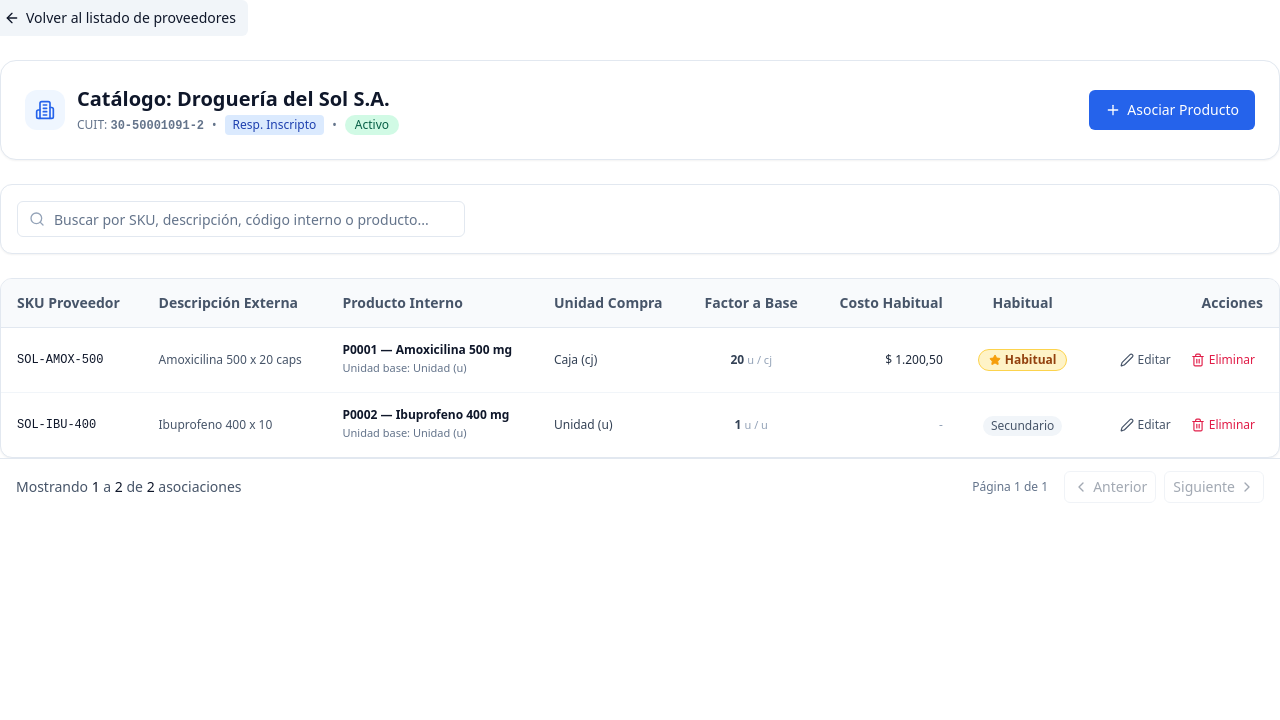
Scenario: SupplierCatalogPage Integration Suite › opens create modal, submits new product mapping and displays success feedback
The width and height of the screenshot is (1280, 720).
Expected: the heading "Catálogo: Droguería del Sol S.A." is shown, [77,85,399,113]
Click the button "Asociar Producto". click: (1172, 110)
box: [1089,90,1255,130]
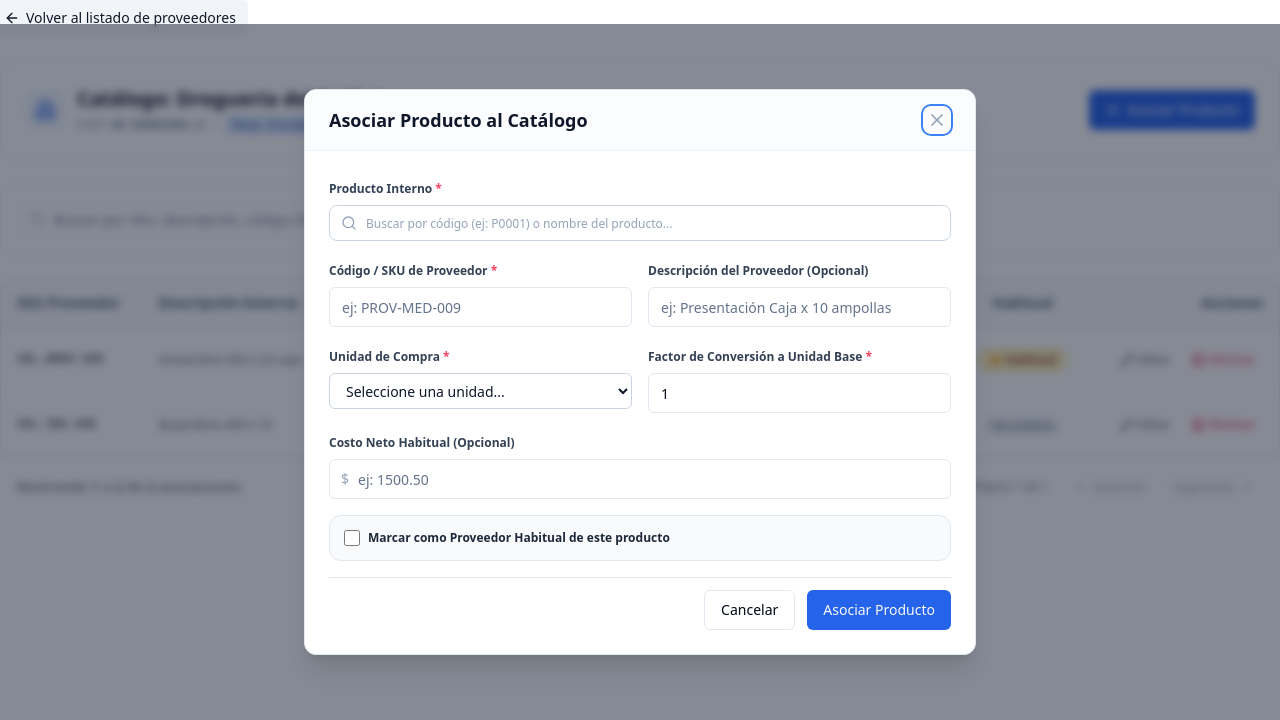
Expected: the heading "Asociar Producto al Catálogo" is shown, [329,106,588,134]
Note: Select product via autocomplete
Type "Amoxi" into the dropdown with placeholder "Buscar por código (ej: P0001) o nombre del producto...". click: (640, 223)
box: [329,205,951,241]
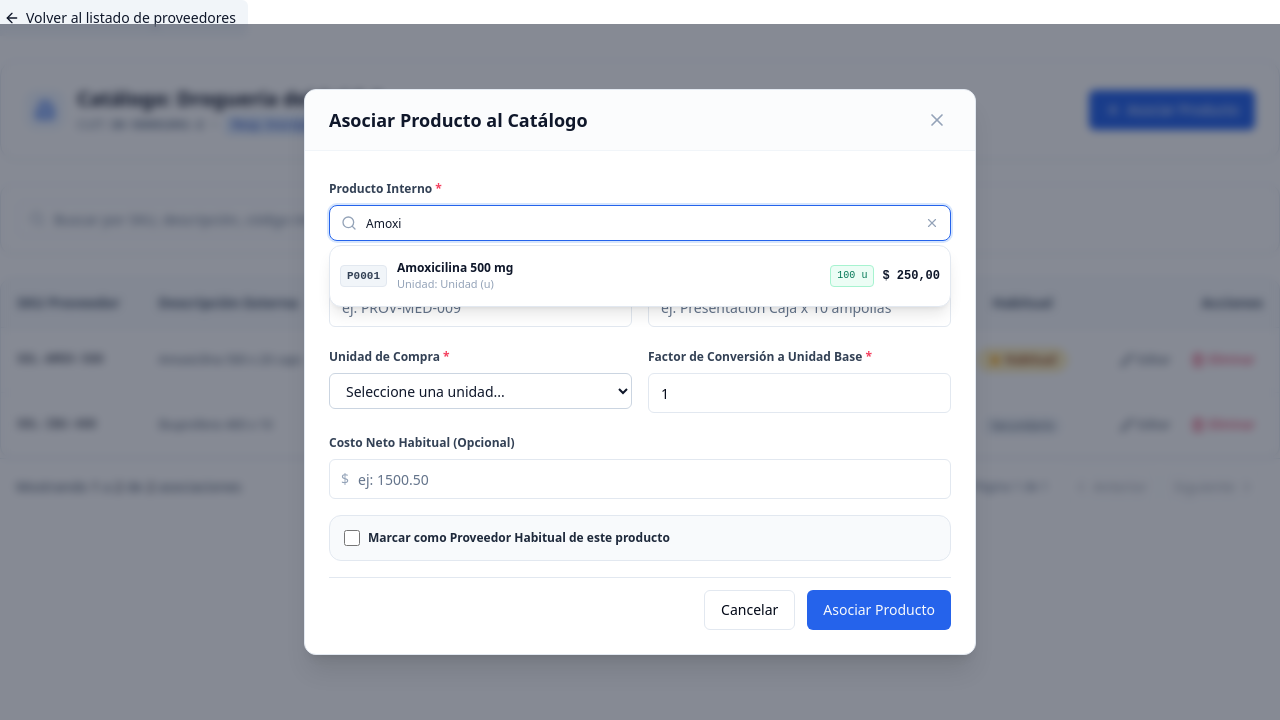
Expected: the text "Amoxicilina 500 mg" is shown
Click the text "Amoxicilina 500 mg". click: (455, 268)
box: [397,260,513,276]
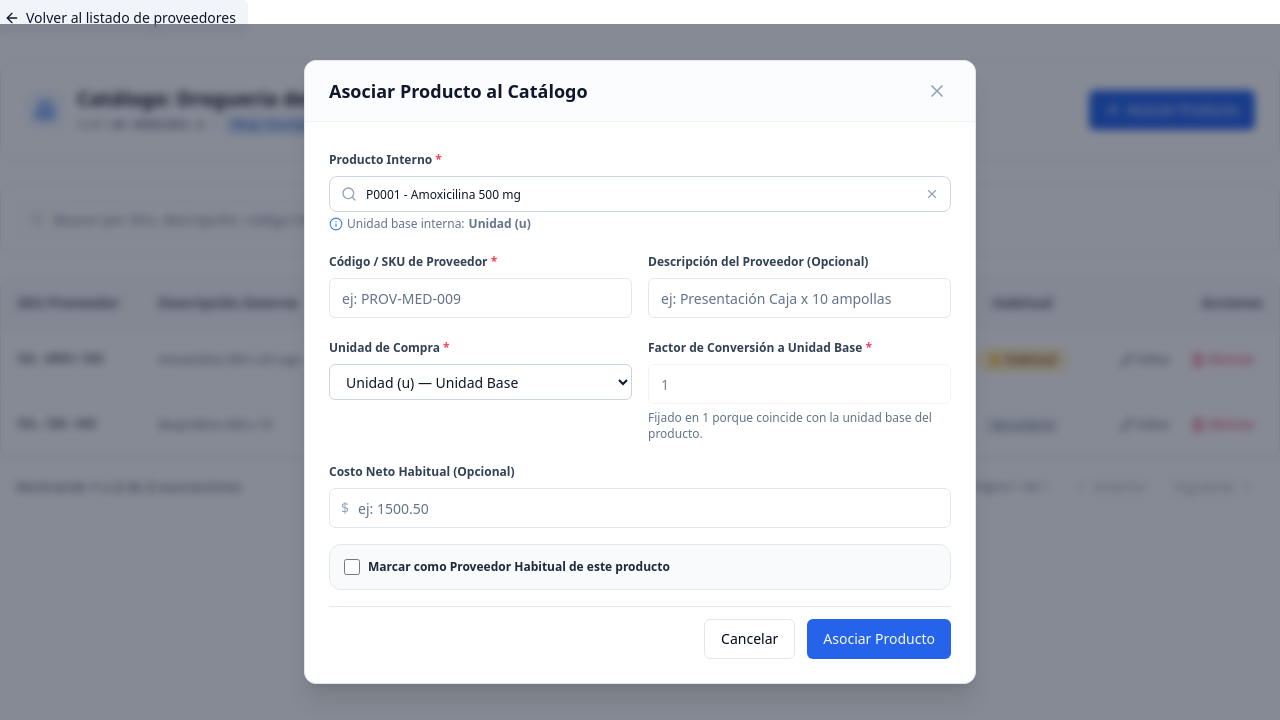
Note: Fill SKU
Type "PROV-NEW-99" into the field labelled "Código / SKU de Proveedor *". click: (480, 298)
box: [329,278,632,318]
Note: Select purchase unit (Caja)
Select "Caja (cj)" in the dropdown labelled "Unidad de Compra *". click: (480, 382)
box: [329,364,632,400]
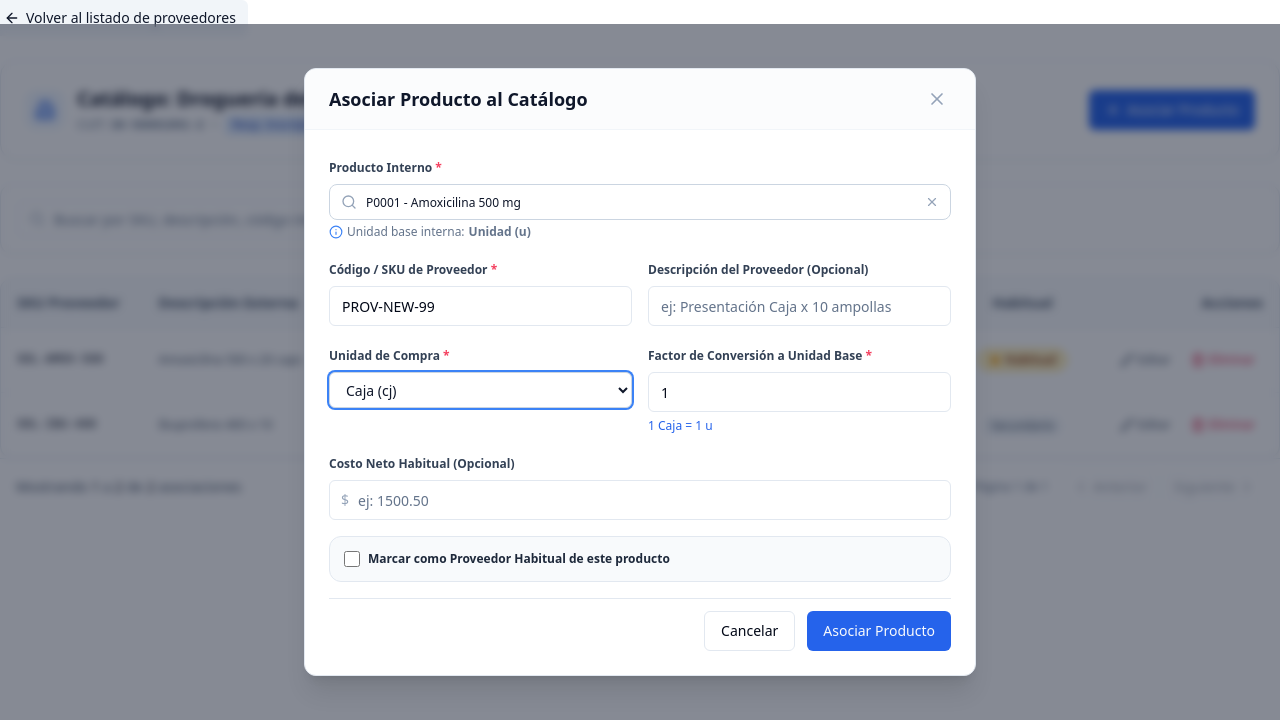
Note: Enter conversion factor
Replace the text in the number field labelled "Factor de Conversión a Unidad Base *" with "50". click: (800, 392)
box: [648,372,951,412]
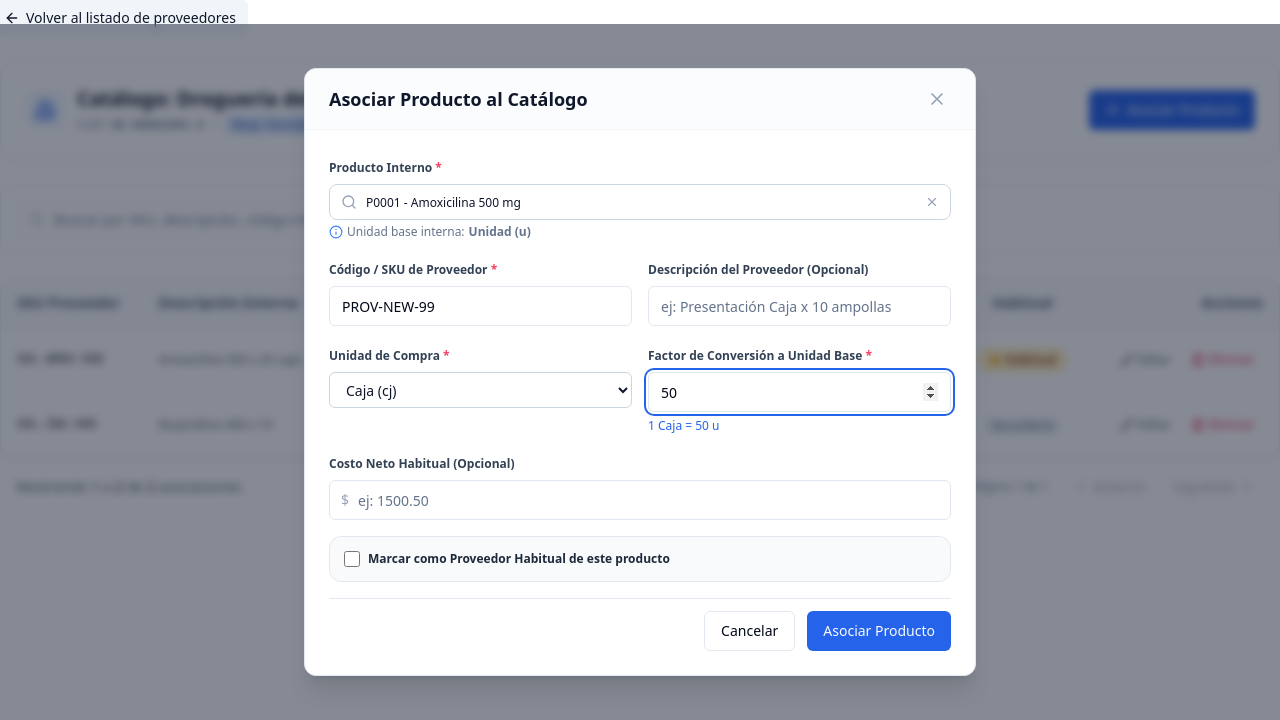
Click the button "Asociar Producto". click: (879, 631)
box: [807,611,951,651]
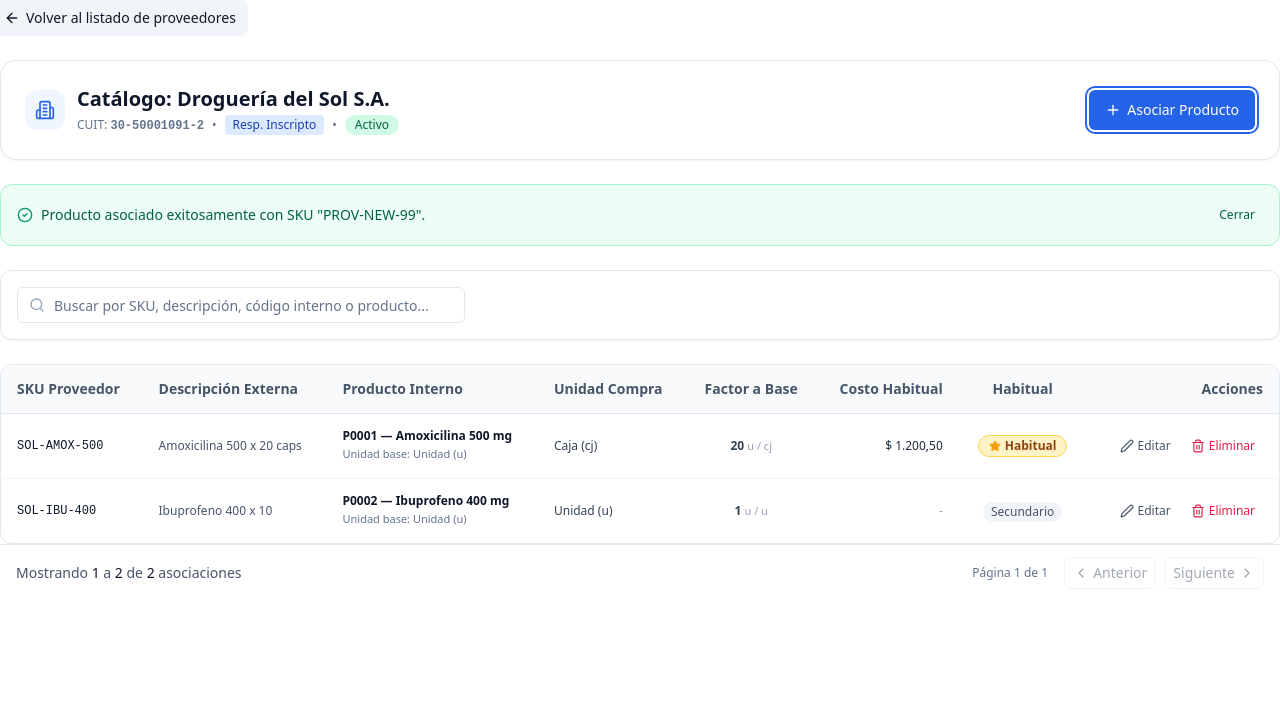
Expected: the text "Producto asociado exitosamente con SKU \"PROV-NEW-99\"." is shown, [41,205,425,225]
